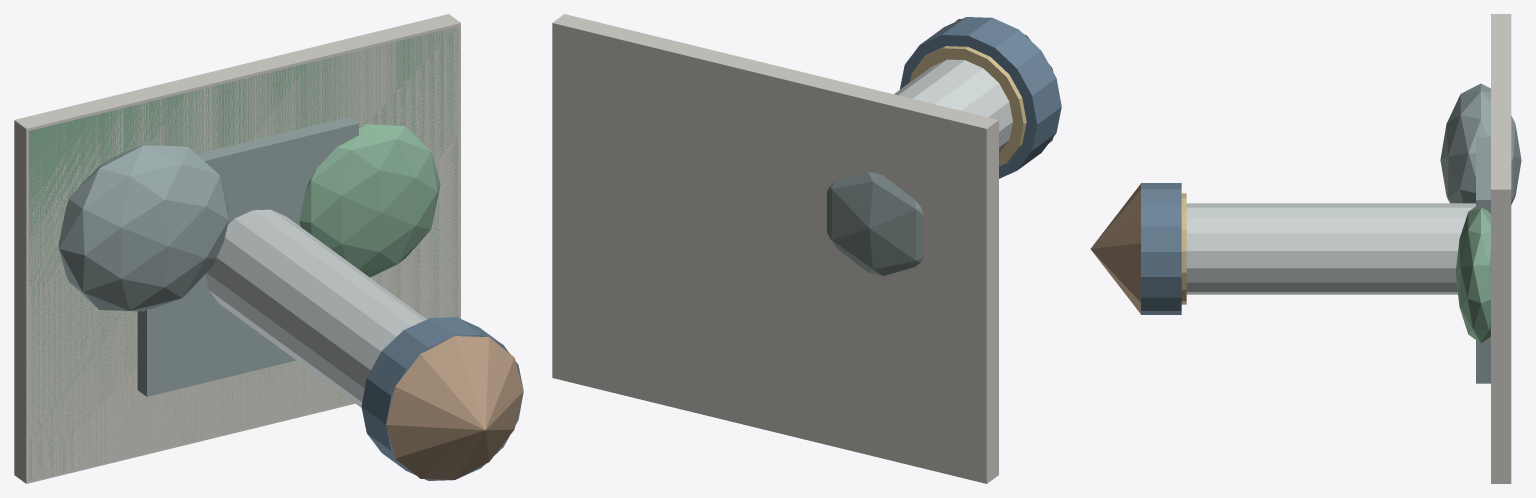
File: dongyin_lighthouse.glb
The picture shows the model from 3 angles, left to right: view 1: azimuth 30°, elevation 25°; view 2: azimuth 150°, elevation 25°; view 3: azimuth 270°, elevation 25°; orthographic projection. The views are drawn at different scales.
Visible parts, largest first — view 1: g0, g1, g7, g3, g2, g8, g5, g4; view 2: g0, g7, g4, g3, g6; view 3: g3, g0, g4, g7, g8, g5, g2, g6.
Boxes of the visible parts, x1,y1,x2,y2 form: g0: (14,14,460,483); g1: (29,27,458,479); g7: (59,145,228,311); g3: (205,209,426,407); g2: (137,116,358,396); g8: (299,124,440,277); g5: (386,336,523,479); g4: (361,317,523,480); g0: (552,14,998,483); g7: (827,171,923,275); g4: (899,17,1061,178); g3: (894,59,1012,153); g6: (909,46,1026,166); g3: (1186,203,1475,294); g0: (1491,14,1511,483); g4: (1141,183,1181,314); g7: (1440,83,1521,204); g8: (1455,206,1490,343); g5: (1090,184,1140,313); g2: (1476,136,1490,383); g6: (1181,193,1186,304).
Bounding box in the file's own units: 82 × 64 × 85.
